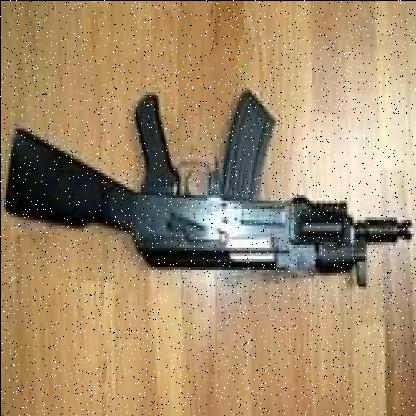rifle: (3, 77, 413, 296)
